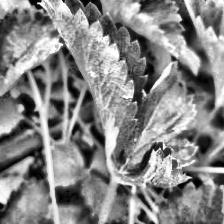Powdery Mildew Leaf: (35, 0, 148, 169), (102, 115, 194, 188), (0, 5, 65, 76), (0, 45, 29, 105)
